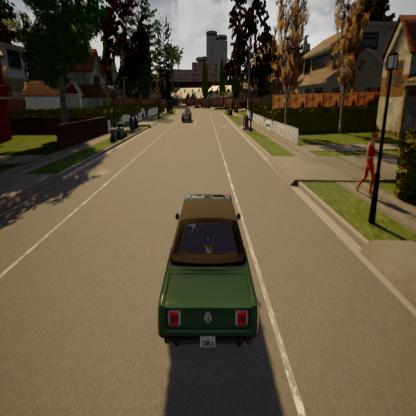Cars: (158, 194, 258, 352), (180, 108, 192, 126)
Pedestrian: (356, 128, 379, 200)
